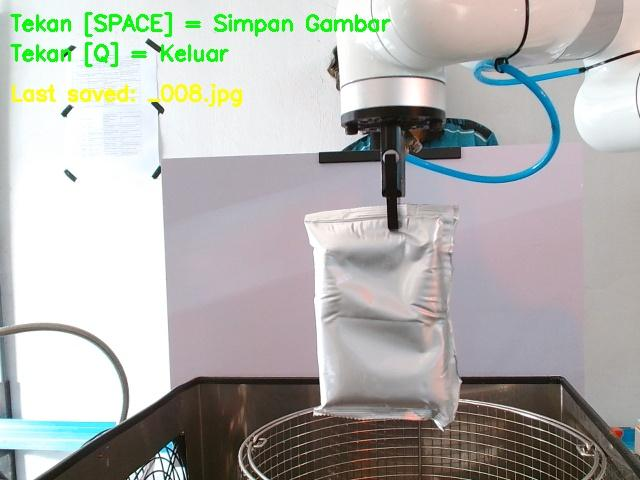retort-pouch: (302, 203, 464, 427)
